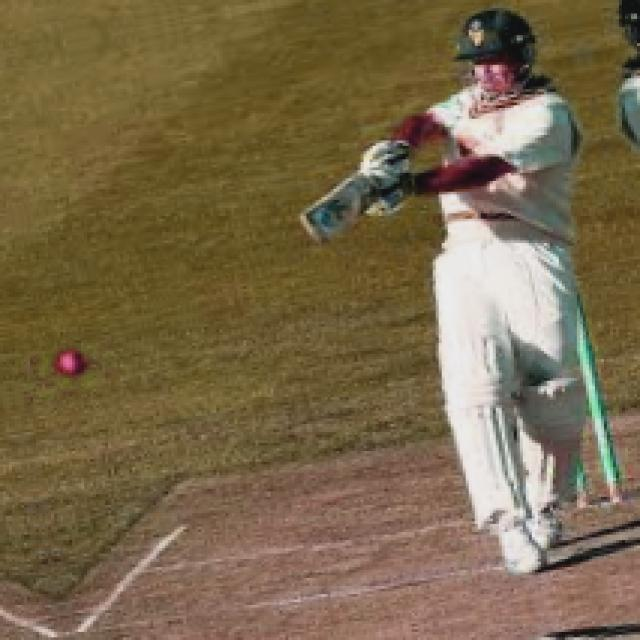toe: (285, 205, 333, 246)
